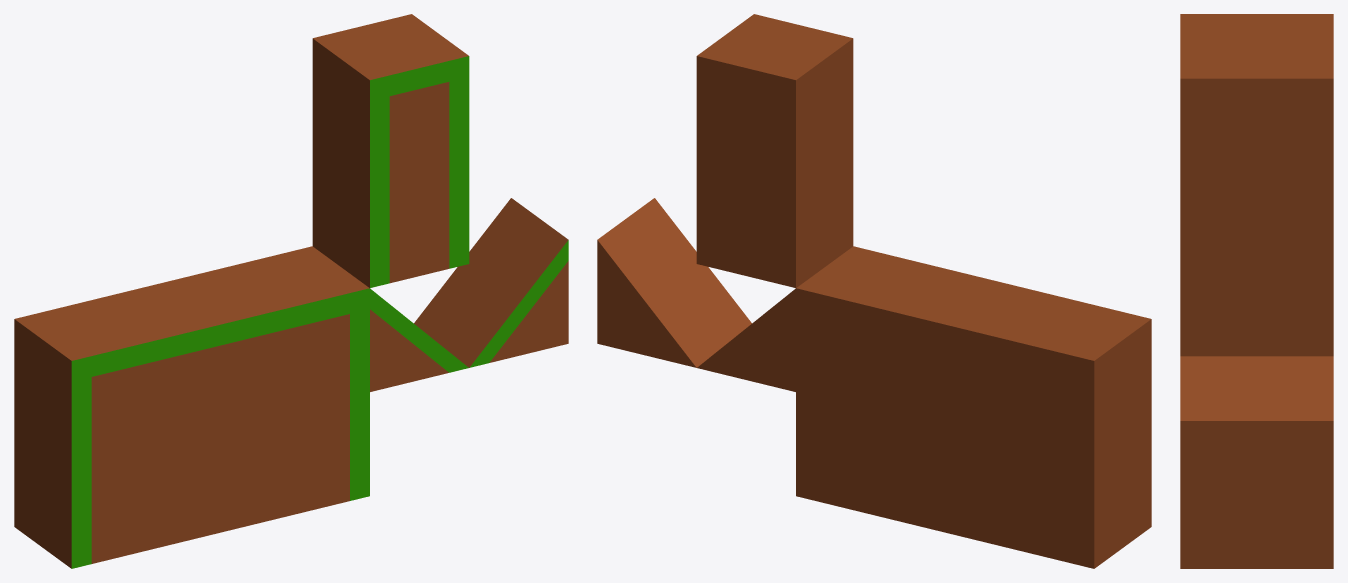
File: Tile.FBX
3 renders of one model, left to right at view 1: azimuth 30°, elevation 25°; view 2: azimuth 150°, elevation 25°; view 3: azimuth 270°, elevation 25°, orthographic. The views are drawn at different scales.
Visible parts, largest first — view 1: RTL, TL, RS, RL, L, T, TL001, M, R, LS; view 2: RTL, TL, RS, RL, L, T, TL001, M, R, LS; view 3: RTL, RL, RS, LS, R.
Boxes of the visible parts, x1,y1,x2,y2 form: RTL: [312, 14, 469, 183]; TL: [14, 294, 170, 464]; RS: [414, 198, 568, 367]; RL: [312, 142, 469, 287]; L: [14, 423, 170, 568]; T: [114, 270, 270, 440]; TL001: [213, 246, 369, 416]; M: [171, 416, 270, 544]; R: [270, 392, 369, 520]; LS: [370, 288, 468, 391]; RTL: [696, 14, 853, 183]; TL: [995, 294, 1151, 464]; RS: [597, 198, 751, 367]; RL: [696, 142, 853, 287]; L: [995, 423, 1151, 568]; T: [895, 270, 1051, 440]; TL001: [796, 246, 952, 416]; M: [895, 416, 994, 544]; R: [796, 392, 895, 520]; LS: [697, 288, 795, 391]; RTL: [1180, 14, 1333, 217]; RL: [1180, 217, 1333, 356]; RS: [1180, 421, 1333, 559]; LS: [1180, 356, 1333, 420]; R: [1180, 559, 1333, 568].
Size of the model in its own units: 250 by 200 by 50.
